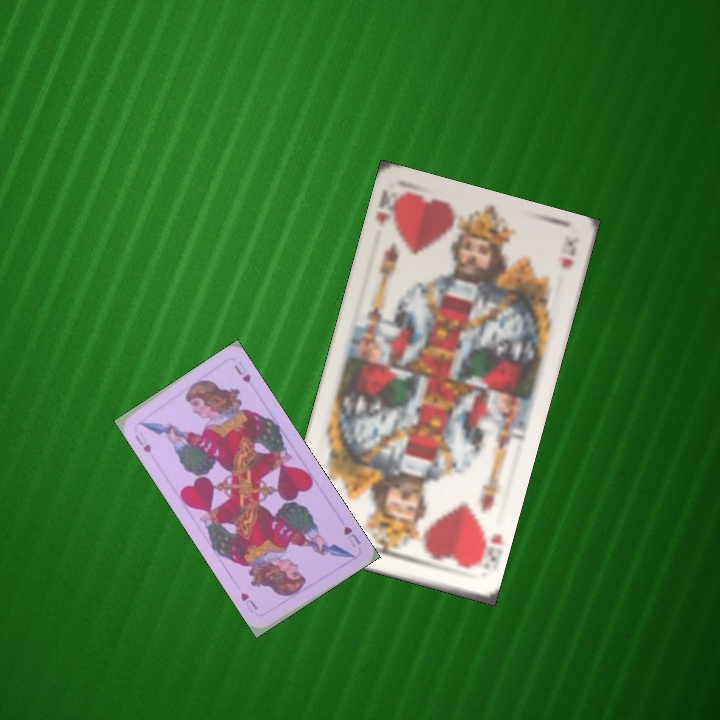HK: (469, 527, 505, 569), (372, 186, 393, 230)
HU: (339, 522, 363, 550), (131, 427, 154, 456)
